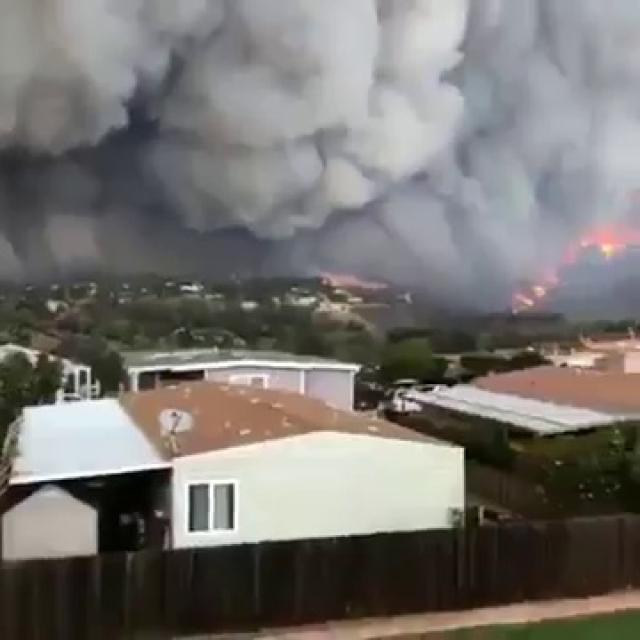Fire: (505, 218, 640, 332)
Smoke: (2, 0, 640, 325)
